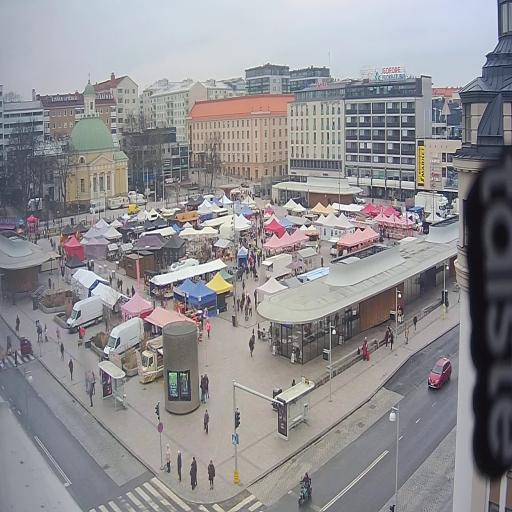car: (427, 357, 452, 388)
delivery: (103, 317, 144, 359), (67, 296, 103, 332), (137, 337, 163, 383), (415, 191, 450, 218)
two-wheels: (298, 472, 311, 505)
